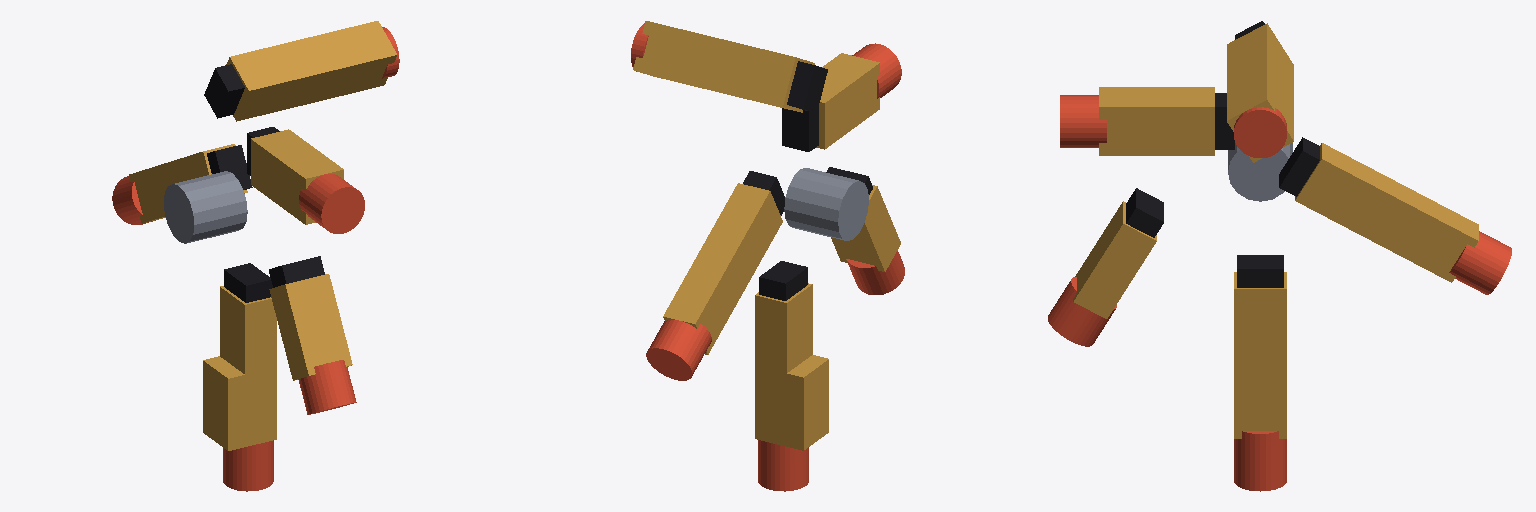
The robot description file, URDF, robot "g0014_c13":
<robot name="g0014_c13">
  <link name="palm">
    <visual name="palm_palm1">
      <origin xyz="0 0 0" rpy="0 0 0" />
      <geometry>
        <mesh filename="palm_palm1.obj" />
      </geometry>
      <material name="palm_palm1_mat">
        <color rgba="0.55 0.57 0.62 1" />
      </material>
    </visual>
    <collision>
      <origin xyz="0 0 0" rpy="0 0 0" />
      <geometry>
        <mesh filename="palm_palm1.obj" />
      </geometry>
    </collision>
    <visual name="palm_mount2">
      <origin xyz="0 0 0" rpy="0 0 0" />
      <geometry>
        <mesh filename="palm_mount2.obj" />
      </geometry>
      <material name="palm_mount2_mat">
        <color rgba="0.55 0.57 0.62 1" />
      </material>
    </visual>
    <collision>
      <origin xyz="0 0 0" rpy="0 0 0" />
      <geometry>
        <mesh filename="palm_mount2.obj" />
      </geometry>
    </collision>
    <visual name="palm_motor3">
      <origin xyz="-0.0045 -0.07625 -0.0335048095" rpy="1.04719755 -3.061617e-17 -5.30287619e-17" />
      <geometry>
        <box size="0.029 0.034 0.02" />
      </geometry>
      <material name="palm_motor3_mat">
        <color rgba="0.15 0.15 0.17 1" />
      </material>
    </visual>
    <collision>
      <origin xyz="-0.0045 -0.07625 -0.0335048095" rpy="1.04719755 -3.061617e-17 -5.30287619e-17" />
      <geometry>
        <box size="0.029 0.034 0.02" />
      </geometry>
    </collision>
    <visual name="palm_motor4">
      <origin xyz="0 -0.0325 0.04" rpy="-0 -1.57079633 0" />
      <geometry>
        <box size="0.029 0.034 0.02" />
      </geometry>
      <material name="palm_motor4_mat">
        <color rgba="0.15 0.15 0.17 1" />
      </material>
    </visual>
    <collision>
      <origin xyz="0 -0.0325 0.04" rpy="-0 -1.57079633 0" />
      <geometry>
        <box size="0.029 0.034 0.02" />
      </geometry>
    </collision>
    <visual name="palm_motor5">
      <origin xyz="0 -9.18485099e-19 -0.0725" rpy="1.57079633 1.2246468e-16 -1.57079633" />
      <geometry>
        <box size="0.029 0.034 0.02" />
      </geometry>
      <material name="palm_motor5_mat">
        <color rgba="0.15 0.15 0.17 1" />
      </material>
    </visual>
    <collision>
      <origin xyz="0 -9.18485099e-19 -0.0725" rpy="1.57079633 1.2246468e-16 -1.57079633" />
      <geometry>
        <box size="0.029 0.034 0.02" />
      </geometry>
    </collision>
    <visual name="palm_motor6">
      <origin xyz="-0.007 2.29621275e-19 0.08" rpy="-1.06057524e-16 1.04719755 1.57079633" />
      <geometry>
        <box size="0.029 0.034 0.02" />
      </geometry>
      <material name="palm_motor6_mat">
        <color rgba="0.15 0.15 0.17 1" />
      </material>
    </visual>
    <collision>
      <origin xyz="-0.007 2.29621275e-19 0.08" rpy="-1.06057524e-16 1.04719755 1.57079633" />
      <geometry>
        <box size="0.029 0.034 0.02" />
      </geometry>
    </collision>
    <visual name="palm_motor7">
      <origin xyz="0 0.0335048095 0.00375" rpy="1.57079633 1.04719755 -1.57079633" />
      <geometry>
        <box size="0.029 0.034 0.02" />
      </geometry>
      <material name="palm_motor7_mat">
        <color rgba="0.15 0.15 0.17 1" />
      </material>
    </visual>
    <collision>
      <origin xyz="0 0.0335048095 0.00375" rpy="1.57079633 1.04719755 -1.57079633" />
      <geometry>
        <box size="0.029 0.034 0.02" />
      </geometry>
    </collision>
    <inertial>
      <origin xyz="0 -0.0146412169 -0.00444978864" rpy="-1.57079633 -1.37198425 1.57079633" />
      <mass value="0.748147106" />
      <inertia ixx="0.000828479268" ixy="0" ixz="0" iyy="0.00154874604" iyz="0" izz="0.00230540319" />
    </inertial>
  </link>
  <link name="f0_link0">
    <visual name="f0_link0_link1">
      <origin xyz="0.01875 0 -1.38777878e-17" rpy="0 4.06369831e-17 0" />
      <geometry>
        <box size="0.0615 0.033 0.024" />
      </geometry>
      <material name="f0_link0_link1_mat">
        <color rgba="0.80 0.62 0.30 1" />
      </material>
    </visual>
    <collision>
      <origin xyz="0.01875 0 -1.38777878e-17" rpy="0 4.06369831e-17 0" />
      <geometry>
        <box size="0.0615 0.033 0.024" />
      </geometry>
    </collision>
    <inertial>
      <origin xyz="0.01875 0 0" rpy="0 0 0" />
      <mass value="0.085239" />
      <inertia ixx="1.18269113e-05" ixy="0" ixz="0" iyy="3.09577393e-05" iyz="0" izz="3.46017066e-05" />
    </inertial>
  </link>
  <link name="f0_link1">
    <visual name="f0_link1_link1">
      <origin xyz="0.019 0 -6.9388939e-18" rpy="-1.57079633 -0 -1.57079633" />
      <geometry>
        <cylinder radius="0.0165" length="0.029" />
      </geometry>
      <material name="f0_link1_link1_mat">
        <color rgba="0.85 0.35 0.25 1" />
      </material>
    </visual>
    <collision>
      <origin xyz="0.019 0 -6.9388939e-18" rpy="-1.57079633 -0 -1.57079633" />
      <geometry>
        <cylinder radius="0.0165" length="0.029" />
      </geometry>
    </collision>
    <inertial>
      <origin xyz="0.019 0 0" rpy="0 0 0" />
      <mass value="0.0763354" />
      <inertia ixx="9.49466441e-06" ixy="0" ixz="0" iyy="2.24143997e-05" iyz="0" izz="2.24143997e-05" />
    </inertial>
  </link>
  <link name="f1_link0">
    <visual name="f1_link0_link1">
      <origin xyz="0.02375 0 0" rpy="0 -0 0" />
      <geometry>
        <box size="0.0715 0.029 0.033" />
      </geometry>
      <material name="f1_link0_link1_mat">
        <color rgba="0.80 0.62 0.30 1" />
      </material>
    </visual>
    <collision>
      <origin xyz="0.02375 0 0" rpy="0 -0 0" />
      <geometry>
        <box size="0.0715 0.029 0.033" />
      </geometry>
    </collision>
    <inertial>
      <origin xyz="0.02375 0 0" rpy="0 0 0" />
      <mass value="0.119744625" />
      <inertia ixx="1.92589272e-05" ixy="0" ixz="0" iyy="6.18805296e-05" iyz="0" izz="5.94058074e-05" />
    </inertial>
  </link>
  <link name="f1_link1">
    <visual name="f1_link1_link1">
      <origin xyz="0.019 0 3.46944695e-18" rpy="-1.57079633 -0 -1.57079633" />
      <geometry>
        <cylinder radius="0.0165" length="0.029" />
      </geometry>
      <material name="f1_link1_link1_mat">
        <color rgba="0.85 0.35 0.25 1" />
      </material>
    </visual>
    <collision>
      <origin xyz="0.019 0 3.46944695e-18" rpy="-1.57079633 -0 -1.57079633" />
      <geometry>
        <cylinder radius="0.0165" length="0.029" />
      </geometry>
    </collision>
    <inertial>
      <origin xyz="0.019 0 0" rpy="0 0 0" />
      <mass value="0.0763354" />
      <inertia ixx="9.49466441e-06" ixy="0" ixz="0" iyy="2.24143997e-05" iyz="0" izz="2.24143997e-05" />
    </inertial>
  </link>
  <link name="f2_link0">
    <visual name="f2_link0_link1">
      <origin xyz="0.02375 0 1.54074396e-33" rpy="0 -0 0" />
      <geometry>
        <box size="0.0715 0.024 0.033" />
      </geometry>
      <material name="f2_link0_link1_mat">
        <color rgba="0.80 0.62 0.30 1" />
      </material>
    </visual>
    <collision>
      <origin xyz="0.02375 0 1.54074396e-33" rpy="0 -0 0" />
      <geometry>
        <box size="0.0715 0.024 0.033" />
      </geometry>
    </collision>
    <inertial>
      <origin xyz="0.02375 0 0" rpy="0 0 0" />
      <mass value="0.099099" />
      <inertia ixx="1.37499863e-05" ixy="0" ixz="0" iyy="5.12114728e-05" iyz="0" izz="4.69749906e-05" />
    </inertial>
  </link>
  <link name="f2_link1">
    <visual name="f2_link1_link1">
      <origin xyz="0.014 -0.00625 1.54074396e-33" rpy="0 -0 0" />
      <geometry>
        <box size="0.052 0.0365 0.033" />
      </geometry>
      <material name="f2_link1_link1_mat">
        <color rgba="0.80 0.62 0.30 1" />
      </material>
    </visual>
    <collision>
      <origin xyz="0.014 -0.00625 1.54074396e-33" rpy="0 -0 0" />
      <geometry>
        <box size="0.052 0.0365 0.033" />
      </geometry>
    </collision>
    <inertial>
      <origin xyz="0.014 -0.00625 0" rpy="0 0 0" />
      <mass value="0.1096095" />
      <inertia ixx="2.21160002e-05" ixy="0" ixz="0" iyy="3.46457361e-05" iyz="0" izz="3.6867612e-05" />
    </inertial>
  </link>
  <link name="f2_link2">
    <visual name="f2_link2_link1">
      <origin xyz="0.024 0 7.70371978e-34" rpy="-1.57079633 -0 -1.57079633" />
      <geometry>
        <cylinder radius="0.0165" length="0.039" />
      </geometry>
      <material name="f2_link2_link1_mat">
        <color rgba="0.85 0.35 0.25 1" />
      </material>
    </visual>
    <collision>
      <origin xyz="0.024 0 7.70371978e-34" rpy="-1.57079633 -0 -1.57079633" />
      <geometry>
        <cylinder radius="0.0165" length="0.039" />
      </geometry>
    </collision>
    <inertial>
      <origin xyz="0.024 0 0" rpy="0 0 0" />
      <mass value="0.0913031255" />
      <inertia ixx="1.1532146e-05" ixy="0" ixz="0" iyy="3.54254069e-05" iyz="0" izz="3.54254069e-05" />
    </inertial>
  </link>
  <link name="f3_link0">
    <visual name="f3_link0_link1">
      <origin xyz="0.04375 1.38777878e-17 0" rpy="3.98552134e-18 1.1024023e-33 1.87768018e-33" />
      <geometry>
        <box size="0.1115 0.033 0.029" />
      </geometry>
      <material name="f3_link0_link1_mat">
        <color rgba="0.80 0.62 0.30 1" />
      </material>
    </visual>
    <collision>
      <origin xyz="0.04375 1.38777878e-17 0" rpy="3.98552134e-18 1.1024023e-33 1.87768018e-33" />
      <geometry>
        <box size="0.1115 0.033 0.029" />
      </geometry>
    </collision>
    <inertial>
      <origin xyz="0.04375 0 0" rpy="0 0 0" />
      <mass value="0.186734625" />
      <inertia ixx="3.00331522e-05" ixy="0" ixz="0" iyy="0.000206547947" iyz="0" izz="0.000210407129" />
    </inertial>
  </link>
  <link name="f3_link1">
    <visual name="f3_link1_link1">
      <origin xyz="0.009 1.38777878e-17 -6.9388939e-18" rpy="-1.57079633 -0 -1.57079633" />
      <geometry>
        <cylinder radius="0.0165" length="0.009" />
      </geometry>
      <material name="f3_link1_link1_mat">
        <color rgba="0.85 0.35 0.25 1" />
      </material>
    </visual>
    <collision>
      <origin xyz="0.009 1.38777878e-17 -6.9388939e-18" rpy="-1.57079633 -0 -1.57079633" />
      <geometry>
        <cylinder radius="0.0165" length="0.009" />
      </geometry>
    </collision>
    <inertial>
      <origin xyz="0.009 0 0" rpy="0 0 0" />
      <mass value="0.046399949" />
      <inertia ixx="5.41970115e-06" ixy="0" ixz="0" iyy="7.09430898e-06" iyz="0" izz="7.09430898e-06" />
    </inertial>
  </link>
  <link name="f4_link0">
    <visual name="f4_link0_link1">
      <origin xyz="0.04375 0 0" rpy="0 2.57628149e-17 0" />
      <geometry>
        <box size="0.1115 0.024 0.033" />
      </geometry>
      <material name="f4_link0_link1_mat">
        <color rgba="0.80 0.62 0.30 1" />
      </material>
    </visual>
    <collision>
      <origin xyz="0.04375 0 0" rpy="0 2.57628149e-17 0" />
      <geometry>
        <box size="0.1115 0.024 0.033" />
      </geometry>
    </collision>
    <inertial>
      <origin xyz="0.04375 0 0" rpy="0 0 0" />
      <mass value="0.154539" />
      <inertia ixx="2.14422863e-05" ixy="0" ixz="0" iyy="0.000174130038" iyz="0" izz="0.000167523496" />
    </inertial>
  </link>
  <link name="f4_link1">
    <visual name="f4_link1_link1">
      <origin xyz="0.019 0 -1.73472348e-18" rpy="-1.57079633 -0 -1.57079633" />
      <geometry>
        <cylinder radius="0.0165" length="0.029" />
      </geometry>
      <material name="f4_link1_link1_mat">
        <color rgba="0.85 0.35 0.25 1" />
      </material>
    </visual>
    <collision>
      <origin xyz="0.019 0 -1.73472348e-18" rpy="-1.57079633 -0 -1.57079633" />
      <geometry>
        <cylinder radius="0.0165" length="0.029" />
      </geometry>
    </collision>
    <inertial>
      <origin xyz="0.019 0 0" rpy="0 0 0" />
      <mass value="0.0763354" />
      <inertia ixx="9.49466441e-06" ixy="0" ixz="0" iyy="2.24143997e-05" iyz="0" izz="2.24143997e-05" />
    </inertial>
  </link>
  <joint name="f0_j0" type="revolute">
    <parent link="palm" />
    <child link="f0_link0" />
    <origin xyz="-0.0045 -0.08 -0.04" rpy="0 1.04719755 -1.57079633" />
    <axis xyz="0 1 6.123234e-17" />
    <limit effort="0.5" lower="-0.523598776" upper="0.523598776" velocity="5" />
    <dynamics damping="0.0775033" friction="0" />
  </joint>
  <joint name="f0_j1" type="revolute">
    <parent link="f0_link0" />
    <child link="f0_link1" />
    <origin xyz="0.04 0 0" rpy="0 0 0" />
    <axis xyz="0 1 6.123234e-17" />
    <limit effort="0.5" lower="-0.523598776" upper="0.523598776" velocity="5" />
    <dynamics damping="0.0775033" friction="0" />
  </joint>
  <joint name="f1_j0" type="revolute">
    <parent link="palm" />
    <child link="f1_link0" />
    <origin xyz="0 -0.04 0.04" rpy="0 1.8369702e-16 -1.57079633" />
    <axis xyz="0 0 1" />
    <limit effort="0.5" lower="-0.523598776" upper="1.57079633" velocity="5" />
    <dynamics damping="0.0775033" friction="0" />
  </joint>
  <joint name="f1_j1" type="revolute">
    <parent link="f1_link0" />
    <child link="f1_link1" />
    <origin xyz="0.05 0 0" rpy="0 0 0" />
    <axis xyz="-0 -1 -6.123234e-17" />
    <limit effort="0.5" lower="-0.523598776" upper="0.523598776" velocity="5" />
    <dynamics damping="0.0775033" friction="0" />
  </joint>
  <joint name="f2_j0" type="revolute">
    <parent link="palm" />
    <child link="f2_link0" />
    <origin xyz="0 0 -0.08" rpy="1.57079633 1.57079633 0" />
    <axis xyz="0 0 1" />
    <limit effort="0.5" lower="-0.523598776" upper="1.57079633" velocity="5" />
    <dynamics damping="0.0775033" friction="0" />
  </joint>
  <joint name="f2_j1" type="revolute">
    <parent link="f2_link0" />
    <child link="f2_link1" />
    <origin xyz="0.05 0 0" rpy="0 0 0" />
    <axis xyz="0 0 1" />
    <limit effort="0.5" lower="-0.523598776" upper="1.57079633" velocity="5" />
    <dynamics damping="0.0775033" friction="0" />
  </joint>
  <joint name="f2_j2" type="revolute">
    <parent link="f2_link1" />
    <child link="f2_link2" />
    <origin xyz="0.03 0 0" rpy="0 0 0" />
    <axis xyz="0 0 1" />
    <limit effort="0.5" lower="-0.523598776" upper="1.57079633" velocity="5" />
    <dynamics damping="0.0775033" friction="0" />
  </joint>
  <joint name="f3_j0" type="revolute">
    <parent link="palm" />
    <child link="f3_link0" />
    <origin xyz="0.0005 0 0.08" rpy="-1.04719755 -5.30287619e-17 -3.061617e-17" />
    <axis xyz="-0 -1 -6.123234e-17" />
    <limit effort="0.5" lower="-0.523598776" upper="0.523598776" velocity="5" />
    <dynamics damping="0.0775033" friction="0" />
  </joint>
  <joint name="f3_j1" type="revolute">
    <parent link="f3_link0" />
    <child link="f3_link1" />
    <origin xyz="0.09 0 0" rpy="0 0 0" />
    <axis xyz="0 0 1" />
    <limit effort="0.5" lower="-0.523598776" upper="1.57079633" velocity="5" />
    <dynamics damping="0.0775033" friction="0" />
  </joint>
  <joint name="f4_j0" type="revolute">
    <parent link="palm" />
    <child link="f4_link0" />
    <origin xyz="0 0.04 0" rpy="3.14159265 0.523598776 1.57079633" />
    <axis xyz="0 0 1" />
    <limit effort="0.5" lower="-0.523598776" upper="1.57079633" velocity="5" />
    <dynamics damping="0.0775033" friction="0" />
  </joint>
  <joint name="f4_j1" type="revolute">
    <parent link="f4_link0" />
    <child link="f4_link1" />
    <origin xyz="0.09 0 0" rpy="0 0 0" />
    <axis xyz="0 0 1" />
    <limit effort="0.5" lower="-0.523598776" upper="1.57079633" velocity="5" />
    <dynamics damping="0.0775033" friction="0" />
  </joint>
</robot>

--- Render facts (derived) ---
Views: 3 orthographic renders of the robot side by side, from view 1: azimuth 30°, elevation 25°; view 2: azimuth 150°, elevation 25°; view 3: azimuth 270°, elevation 25°.
Model g0014_c13 with 12 links and 11 joints (11 revolute), rooted at palm, posed every joint at zero.
Visible links, largest first — view 1: f3_link0, palm, f0_link0, f2_link1, f2_link0, f1_link0, f1_link1, f4_link0, f2_link2, f0_link1, f4_link1; view 2: palm, f4_link0, f3_link0, f2_link1, f2_link0, f1_link0, f4_link1, f0_link0, f2_link2, f0_link1, f1_link1; view 3: f4_link0, f1_link0, palm, f3_link0, f2_link0, f0_link0, f2_link2, f2_link1, f4_link1, f1_link1, f3_link1, f0_link1.
Boxes of the visible links, bbox=[...] form: f3_link0: bbox=[226, 21, 396, 121]; palm: bbox=[164, 64, 324, 302]; f0_link0: bbox=[269, 274, 352, 380]; f2_link1: bbox=[203, 356, 276, 450]; f2_link0: bbox=[220, 286, 276, 404]; f1_link0: bbox=[251, 129, 343, 224]; f1_link1: bbox=[299, 174, 364, 233]; f4_link0: bbox=[129, 144, 247, 223]; f2_link2: bbox=[223, 440, 273, 491]; f0_link1: bbox=[298, 360, 356, 414]; f4_link1: bbox=[112, 176, 155, 224]; palm: bbox=[743, 61, 872, 300]; f4_link0: bbox=[663, 183, 782, 354]; f3_link0: bbox=[633, 21, 814, 112]; f2_link1: bbox=[755, 355, 828, 450]; f2_link0: bbox=[755, 283, 812, 403]; f1_link0: bbox=[816, 53, 879, 149]; f4_link1: bbox=[646, 320, 711, 380]; f0_link0: bbox=[831, 185, 900, 271]; f2_link2: bbox=[758, 440, 808, 491]; f0_link1: bbox=[846, 251, 904, 294]; f1_link1: bbox=[852, 43, 901, 98]; f4_link0: bbox=[1295, 143, 1478, 282]; f1_link0: bbox=[1099, 87, 1214, 155]; palm: bbox=[1126, 21, 1319, 287]; f3_link0: bbox=[1227, 23, 1293, 162]; f2_link0: bbox=[1234, 272, 1286, 393]; f0_link0: bbox=[1073, 201, 1156, 318]; f2_link2: bbox=[1234, 431, 1286, 491]; f2_link1: bbox=[1234, 363, 1286, 438]; f4_link1: bbox=[1449, 231, 1511, 294]; f1_link1: bbox=[1060, 95, 1106, 147]; f3_link1: bbox=[1234, 107, 1286, 157]; f0_link1: bbox=[1048, 277, 1116, 346].
Bounding box of the posed robot: 0.156 × 0.2862 × 0.305 m (x, y, z).
1 mesh visuals loaded from 2 distinct referenced files (1 OBJ); not drawn: 1 (reference not matched to a file when rendering).
